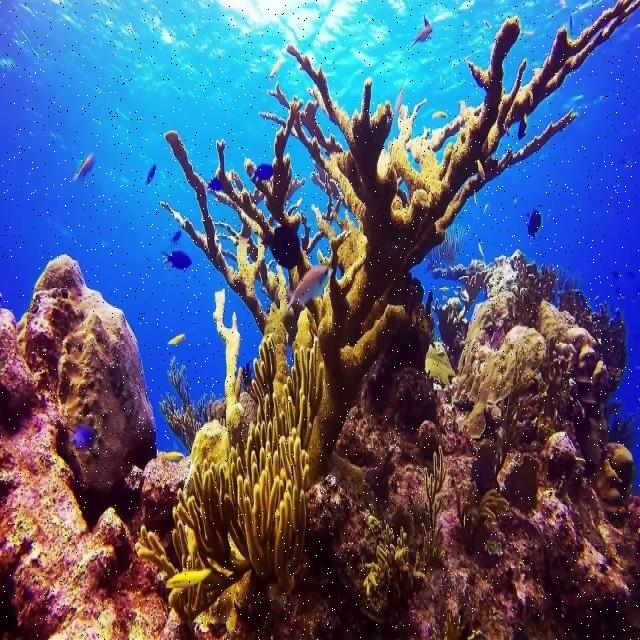aquatic plants: (160, 356, 219, 436)
fish: (284, 265, 330, 311), (260, 226, 302, 271), (408, 10, 434, 49), (157, 244, 192, 272), (73, 151, 98, 186)
reefs: (159, 1, 639, 481), (134, 334, 324, 631), (363, 444, 449, 605), (526, 209, 544, 243)
sea-floor: (0, 245, 639, 639)
